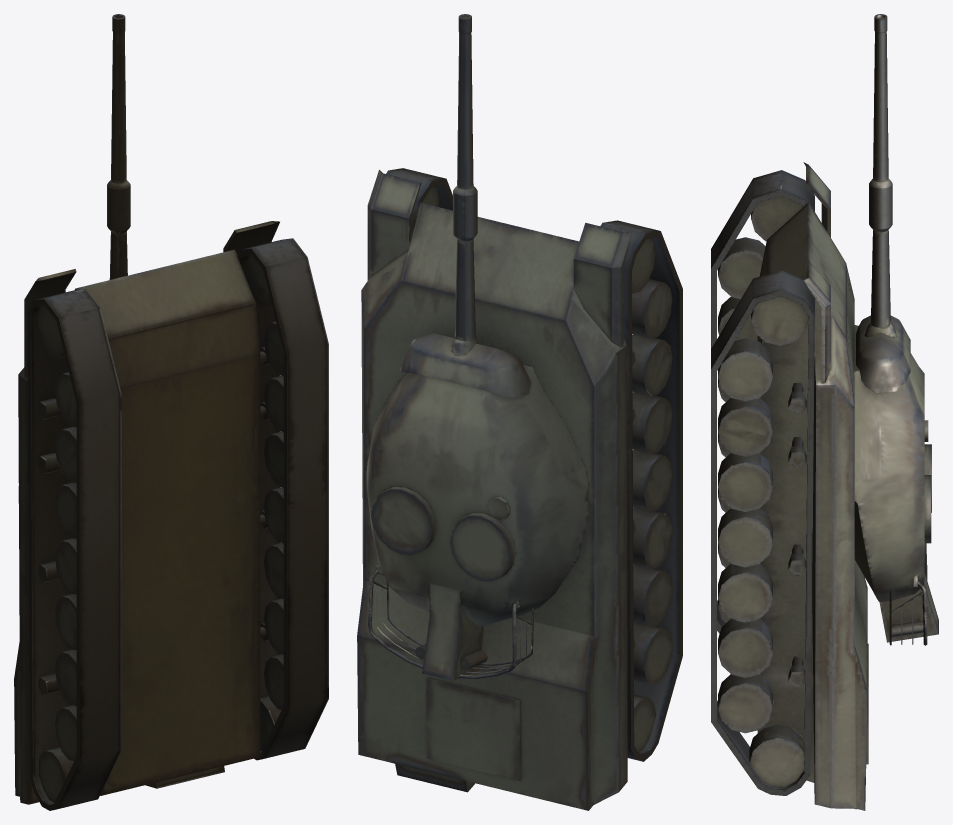
File: Leopard_1.fbx
3 views of the same model, side by side, from view 1: azimuth 30°, elevation 25°; view 2: azimuth 150°, elevation 25°; view 3: azimuth 270°, elevation 25° (orthographic). The views are drawn at different scales.
Visible parts, largest first — view 1: Leopard_1 Body, Leopard_1 Turret; view 2: Leopard_1 Body, Leopard_1 Turret; view 3: Leopard_1 Body, Leopard_1 Turret.
Part boxes in pixels (x1,y1,x2,y2): Leopard_1 Body: (14,221,328,810); Leopard_1 Turret: (18,14,130,503); Leopard_1 Body: (357,168,682,810); Leopard_1 Turret: (366,14,588,680); Leopard_1 Body: (711,162,868,810); Leopard_1 Turret: (854,14,938,645).
Bounding box in the file's own units: 130 × 378 × 103.
